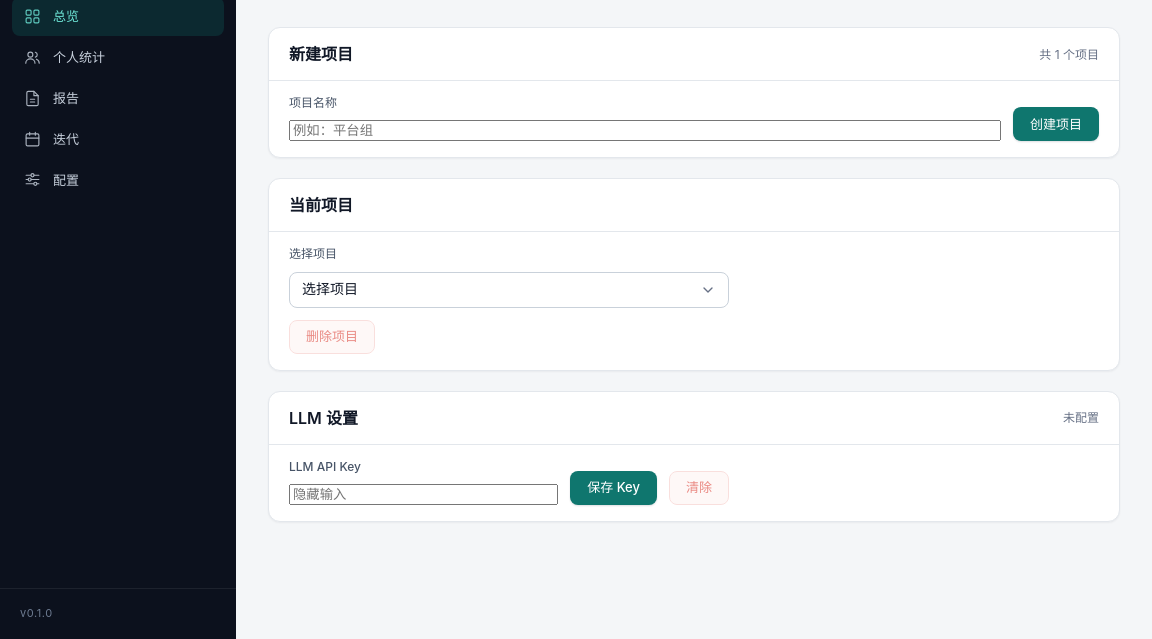
it: ConfigPage sync › syncs a repo via POST /repositories/:id/sync and shows the fetched commit count
# 选中项目后仓库表格才会渲染
Select "平台组" in the dropdown named "select-project": (509, 290) [289, 272, 729, 308]
(page scrolled)
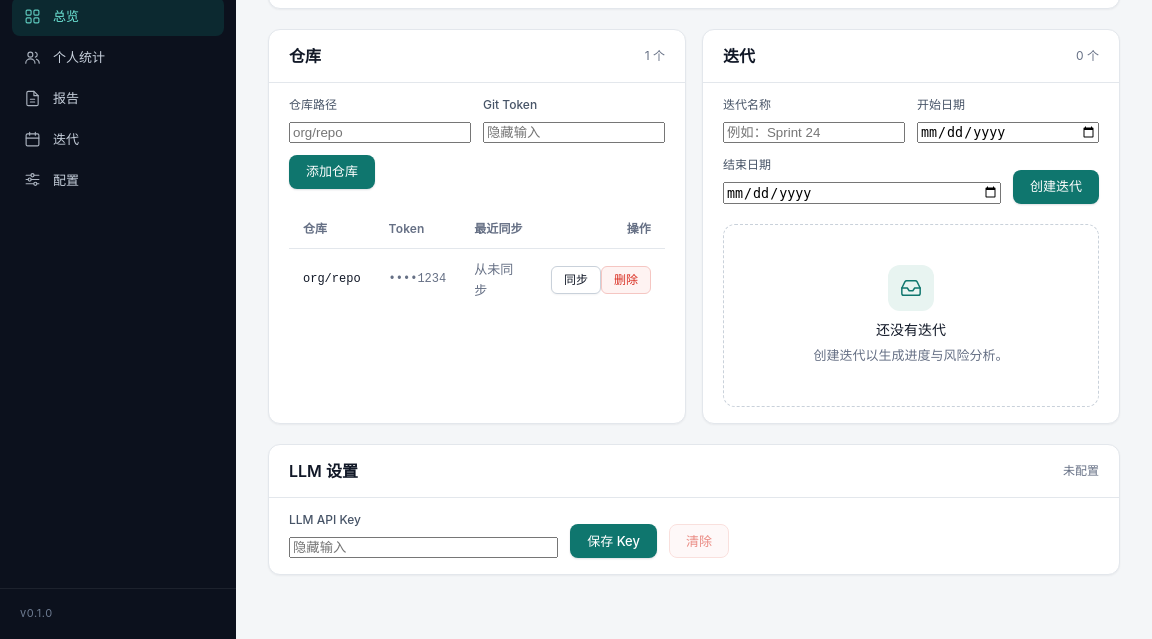
Result: the text "org/repo" is shown at [289, 248, 375, 311]
Click the button "同步": (576, 280) [551, 266, 601, 294]
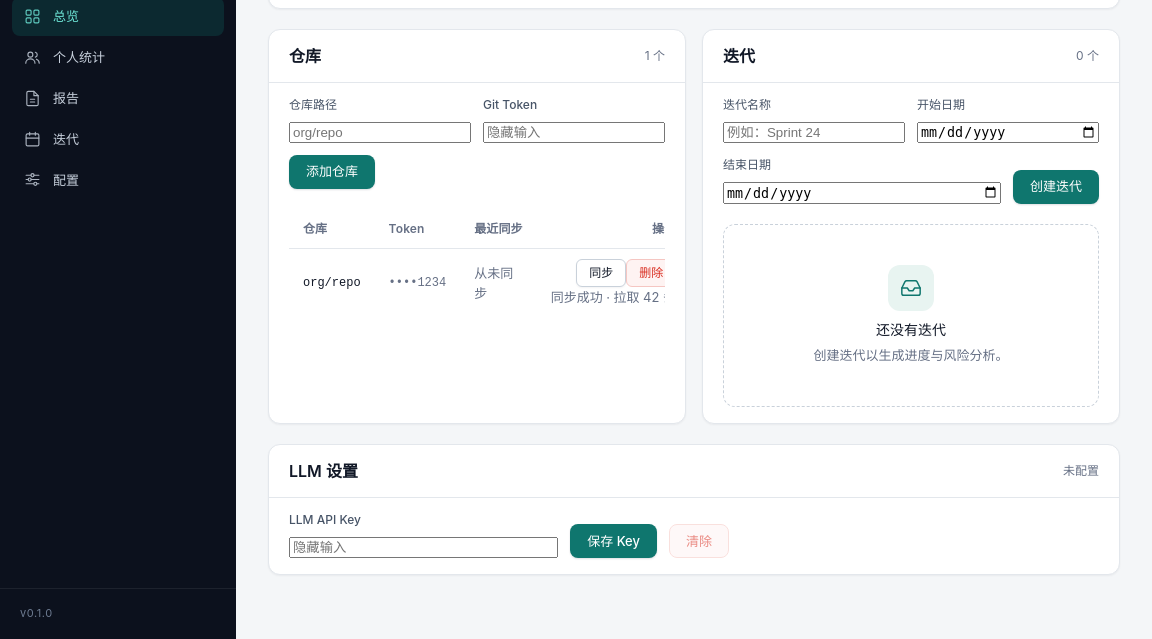
Result: the text "同步成功 · 拉取 42 条" is shown at [551, 289, 665, 305]
